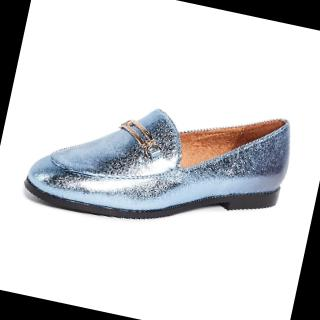loafers: (16, 61, 301, 254)
